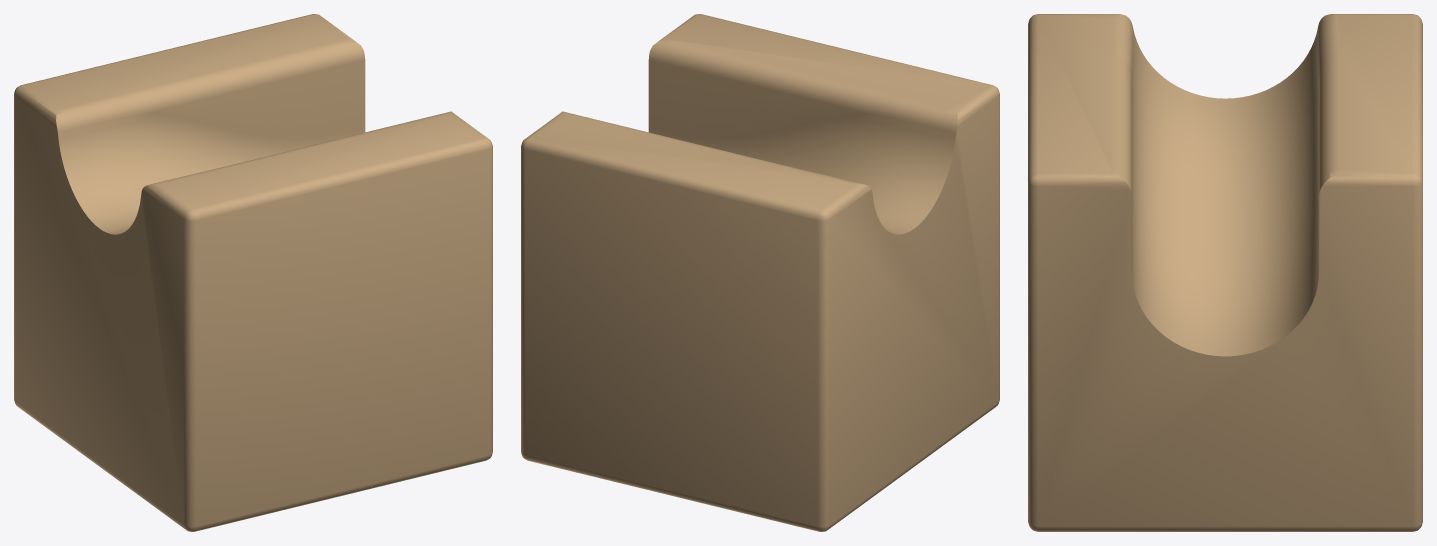
File: blk_slope_gentle_l3.glb
3 views of the same model, side by side, from view 1: azimuth 30°, elevation 25°; view 2: azimuth 150°, elevation 25°; view 3: azimuth 270°, elevation 25° (orthographic). The views are drawn at different scales.
Visible parts, largest first — view 1: blk_slope_gentle_l3_lod0; view 2: blk_slope_gentle_l3_lod0; view 3: blk_slope_gentle_l3_lod0.
Boxes of the visible parts, box(x1,y1,x2,y2) form: blk_slope_gentle_l3_lod0: box(14, 14, 492, 531); blk_slope_gentle_l3_lod0: box(521, 14, 999, 531); blk_slope_gentle_l3_lod0: box(1028, 14, 1422, 531).
Size of what is drawn, in the model's own units: 0.059 by 0.059 by 0.059.
